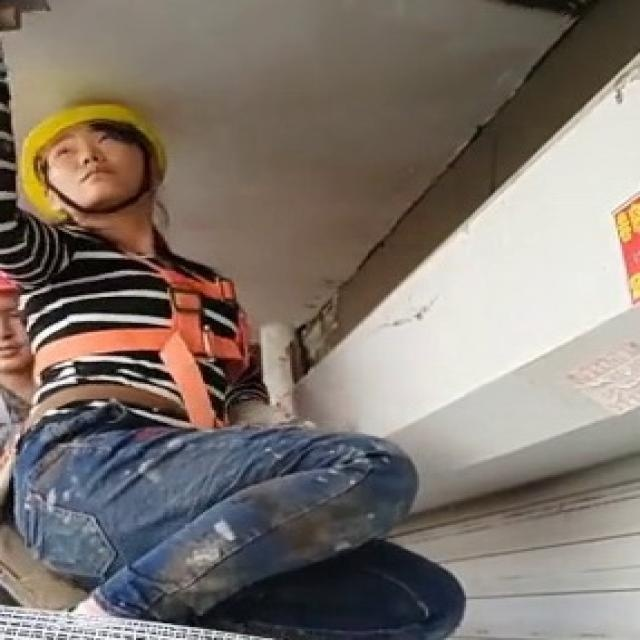Arnes_seguridad: (14, 219, 257, 393)
